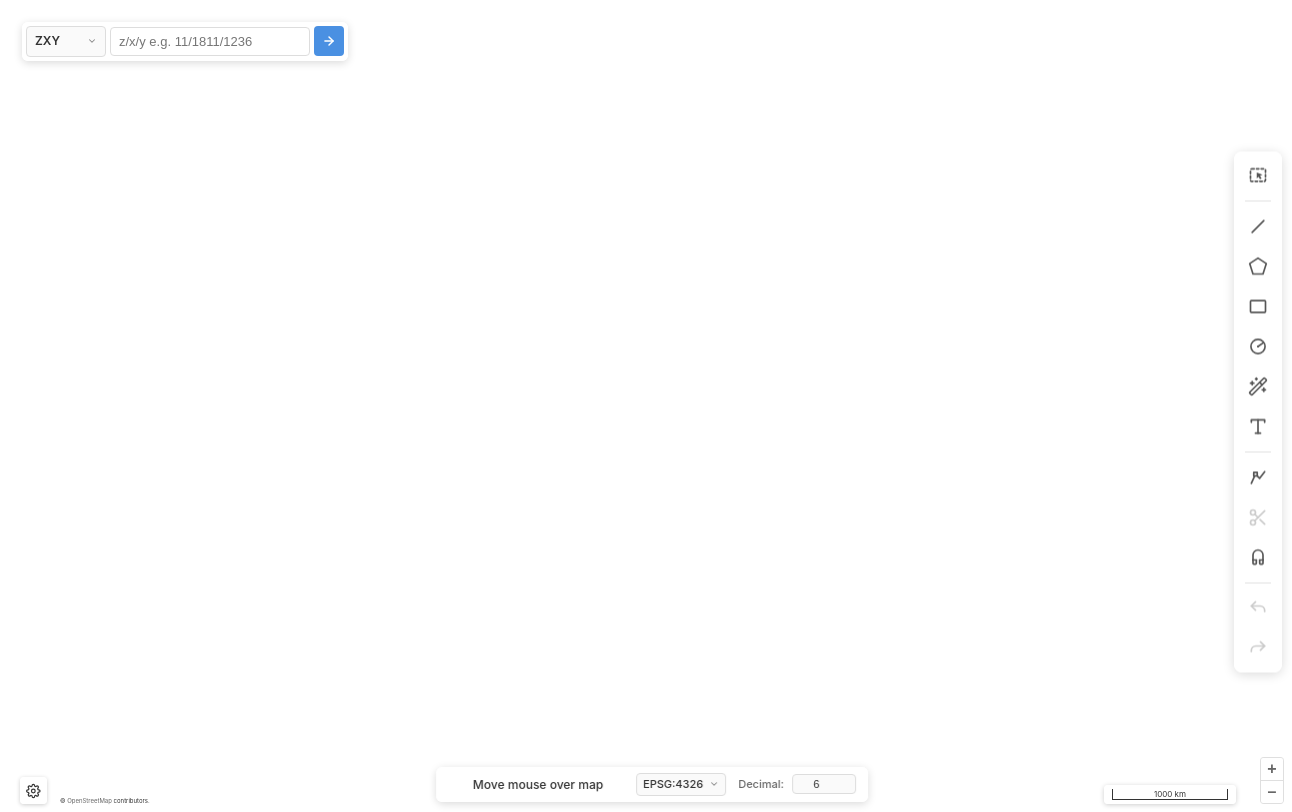
Scenario: right-clicking the polygon tool arms magnetic edges for polygons
The image size is (1292, 812).
Right-click the button titled "Draw Polygon" at (1258, 266), box [1240,248,1276,284]
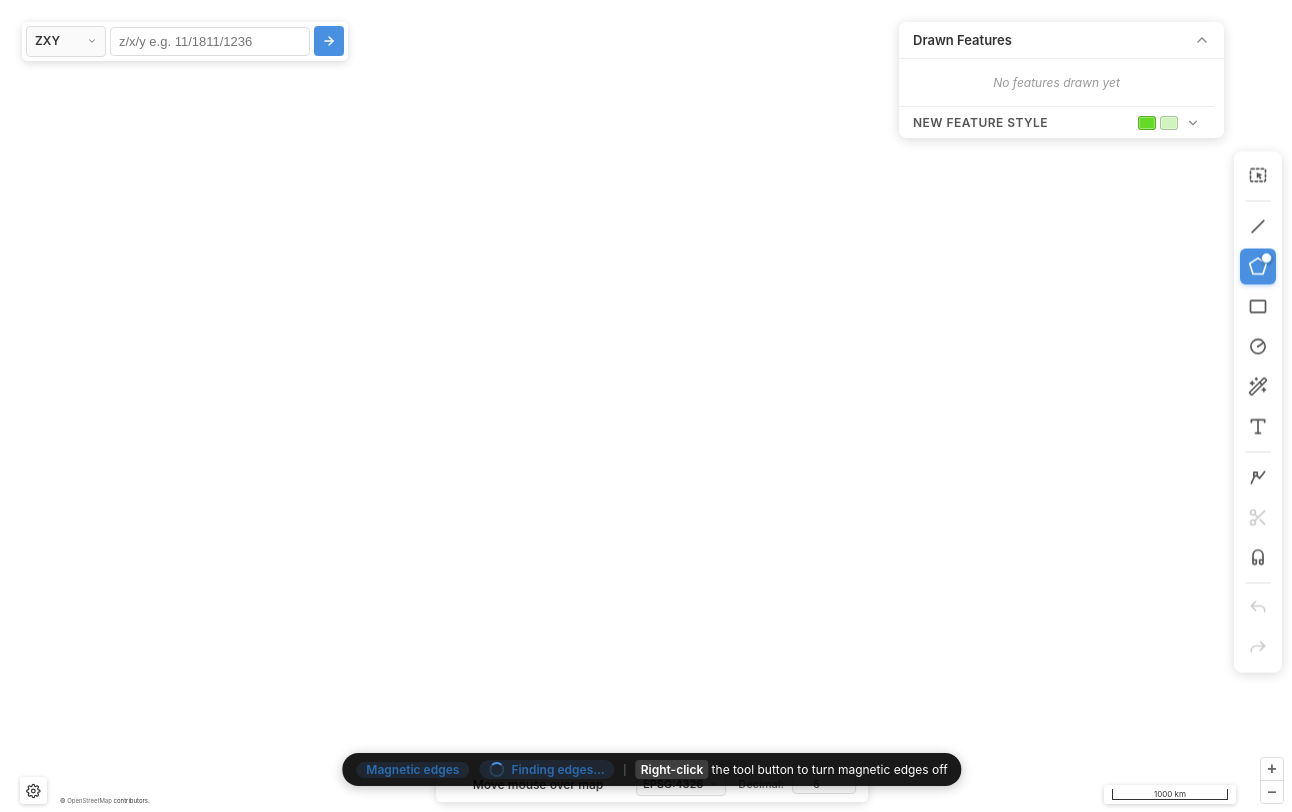
Expected: the text "Magnetic edges" is shown, [356,762,469,778]
Right-click the button titled "Draw Polygon" at (1258, 266), box [1240,248,1276,284]
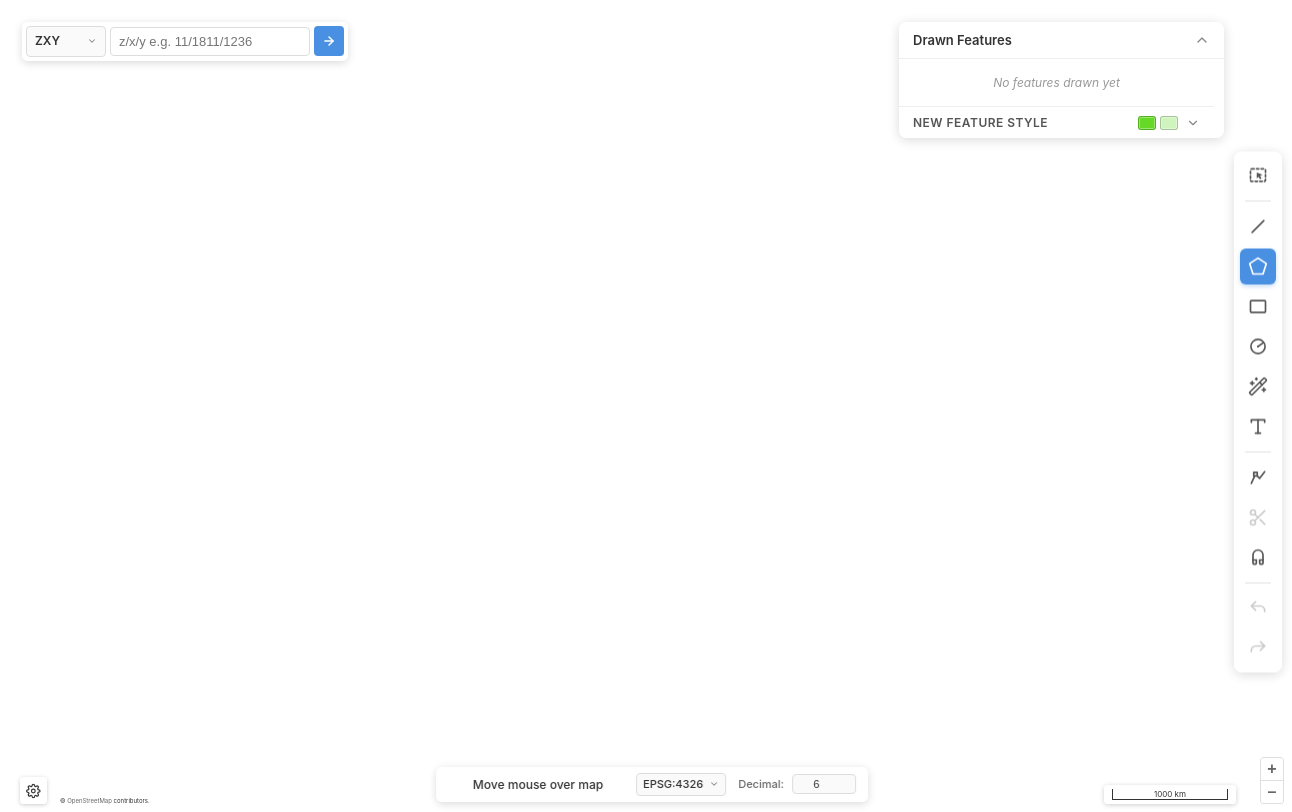
Expected: the text "Magnetic edges" is gone
